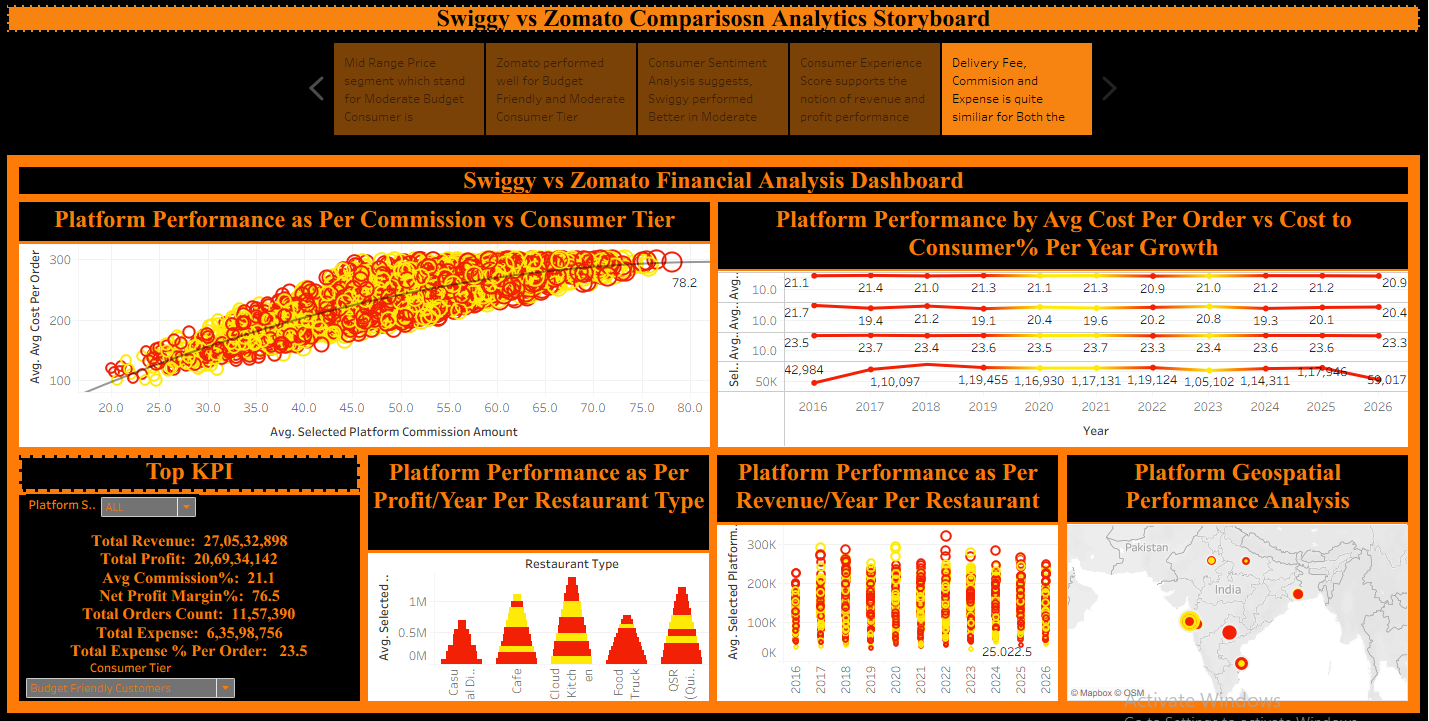

The dashboard page shown, as its layout file describes it:
{"tool":"tableau","page":{"name":"Swiggy vs Zomato Financial Analysis Dashboard","canvas":[1000,1000],"units":"permille","ordinal":4},"visuals":[{"type":"title","box":[5.8,11.1,988.5,48.3]},{"type":"worksheet","title":"Platform Performance as Per Commission vs Consumer Tier","mark":"Automatic","rows":["Avg Cost Per Order"],"cols":["Calculation_0850790460686338"],"box":[5.8,59.4,494.2,464.8]},{"type":"worksheet","title":"Platform Performance by Avg Cost Per Order vs Cost to Consumer% Per Year Growth","mark":"Automatic","rows":["Calculation_0811207701889026","Calculation_0827427283996672","Calculation_0850790460403713","Calculation_0562167627137029"],"cols":["Listing Date"],"box":[500,59.4,494.2,464.8]},{"type":"worksheet","title":"Top KPI","mark":"Automatic","box":[5.8,524.2,247.1,464.8]},{"type":"worksheet","title":"Platform Performance as Per Profit/Year Per Restaurant Type","mark":"Automatic","rows":["Calculation_0740288849022978"],"cols":["Restaurant_Type"],"box":[252.8,524.2,247.1,464.8]},{"type":"worksheet","title":"Platform Performance as Per Revenue/Year Per Restaurant","mark":"Shape","rows":["Calculation_0562167626235908"],"cols":["Listing Date"],"box":[499.9,524.2,247.1,464.8]},{"type":"worksheet","title":"Platform Geospatial Performance Analysis","mark":"Automatic","box":[747.1,524.2,247.2,464.8]},{"type":"parameter","param":"[Parameters].[Parameter 2]","box":[13.8,607.7,122.3,60.8]},{"type":"parameter","param":"[Parameters].[Parameter 1]","box":[11.3,903.7,152.4,74.3]}]}

Visuals, with their boxes on the dashboard's canvas, which has no fixed pixel size, in thousandths of its width and height (x1, y1, x2, y2). These are canvas units, not pixel positions in the 1429x721 screenshot, which may show the page scaled, cropped or inside an application window:
title: pyautogui.locateOnScreen(6, 11, 994, 59)
"Platform Performance as Per Commission vs Consumer Tier" worksheet: pyautogui.locateOnScreen(6, 59, 500, 524)
"Platform Performance by Avg Cost Per Order vs Cost to Consumer% Per Year Growth" worksheet: pyautogui.locateOnScreen(500, 59, 994, 524)
"Top KPI" worksheet: pyautogui.locateOnScreen(6, 524, 253, 989)
"Platform Performance as Per Profit/Year Per Restaurant Type" worksheet: pyautogui.locateOnScreen(253, 524, 500, 989)
"Platform Performance as Per Revenue/Year Per Restaurant" worksheet (Shape marks): pyautogui.locateOnScreen(500, 524, 747, 989)
"Platform Geospatial Performance Analysis" worksheet: pyautogui.locateOnScreen(747, 524, 994, 989)
parameter: pyautogui.locateOnScreen(14, 608, 136, 668)
parameter: pyautogui.locateOnScreen(11, 904, 164, 978)
